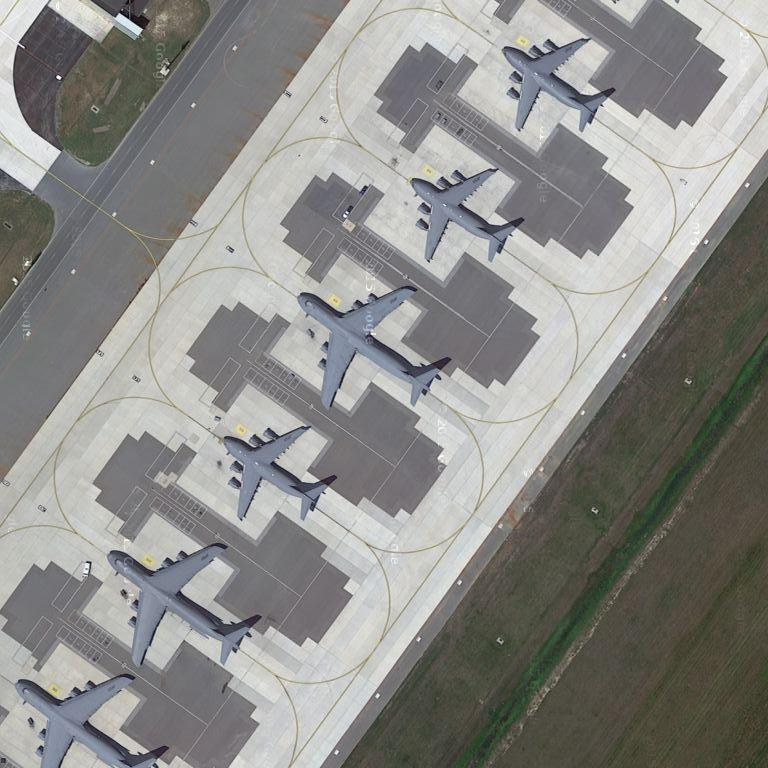C-17: (220, 419, 335, 524), (406, 169, 520, 265), (503, 33, 606, 138)
KC-135: (293, 281, 448, 416), (104, 543, 256, 673), (13, 670, 172, 768)
